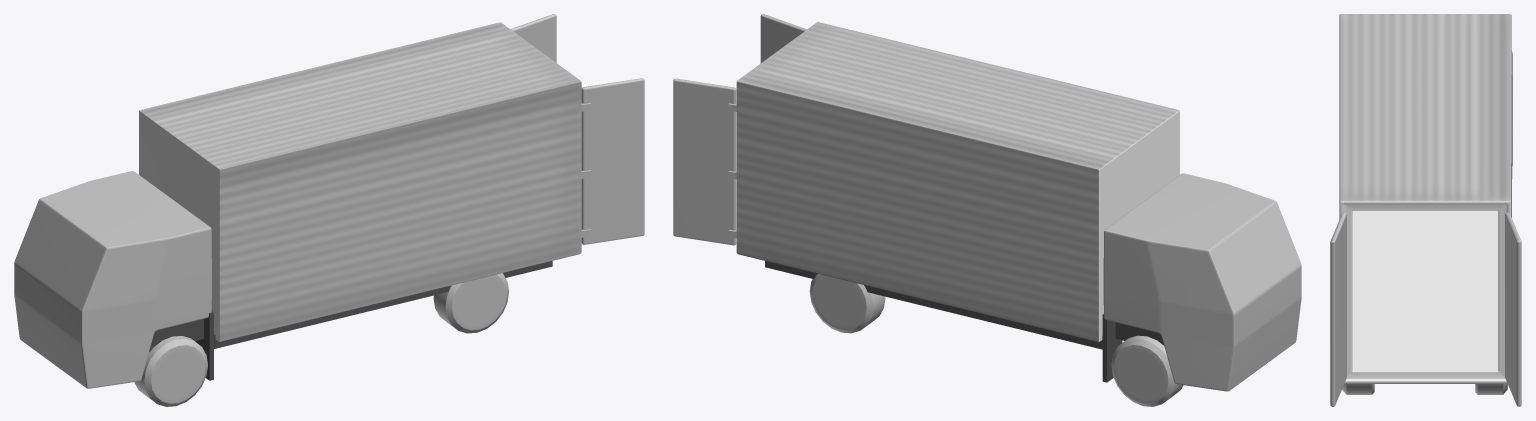
The model's file is truck1.fbx.
The picture shows the model from 3 angles, left to right: view 1: azimuth 30°, elevation 25°; view 2: azimuth 150°, elevation 25°; view 3: azimuth 270°, elevation 25°; orthographic projection. The views are drawn at different scales.
Parts seen in each view (by area): view 1: pCube2, pCube35, polySurface10, pCylinder14, pCylinder13, pCube36, polySurface11, pCube39, pCube37; view 2: pCube2, pCube35, polySurface11, pCylinder12, pCylinder11, pCube36, polySurface10, pCube38; view 3: pCube2, polySurface10, polySurface11, pCylinder11, pCylinder13, pCube35.
Part boxes in pixels (box(x1,y1,x2,y2)): pCube2: box(139, 22, 581, 341); pCube35: box(14, 171, 211, 388); polySurface10: box(581, 78, 644, 244); pCylinder14: box(134, 336, 207, 406); pCylinder13: box(433, 273, 509, 333); pCube36: box(214, 261, 552, 348); polySurface11: box(510, 14, 556, 62); pCube39: box(149, 310, 212, 352); pCube37: box(195, 311, 213, 380); pCube2: box(736, 22, 1179, 342); pCube35: box(1103, 173, 1301, 391); polySurface11: box(673, 78, 736, 245); pCylinder12: box(1111, 335, 1183, 406); pCylinder11: box(809, 274, 885, 333); pCube36: box(765, 261, 1102, 349); polySurface10: box(760, 14, 806, 62); pCube38: box(1102, 314, 1122, 382); pCube2: box(1339, 14, 1511, 383); polySurface10: box(1330, 212, 1346, 406); polySurface11: box(1505, 212, 1521, 406); pCylinder11: box(1475, 384, 1507, 394); pCylinder13: box(1342, 384, 1374, 394); pCube35: box(1511, 50, 1512, 178).
Bounding box in the file's own units: 41.68 × 16.57 × 11.82.
